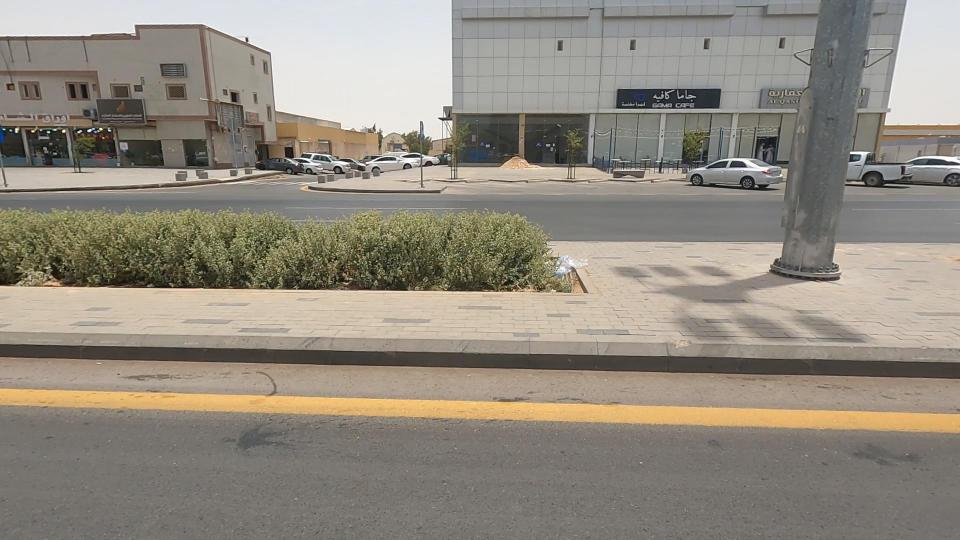GARBAGE: (518, 229, 631, 304)
